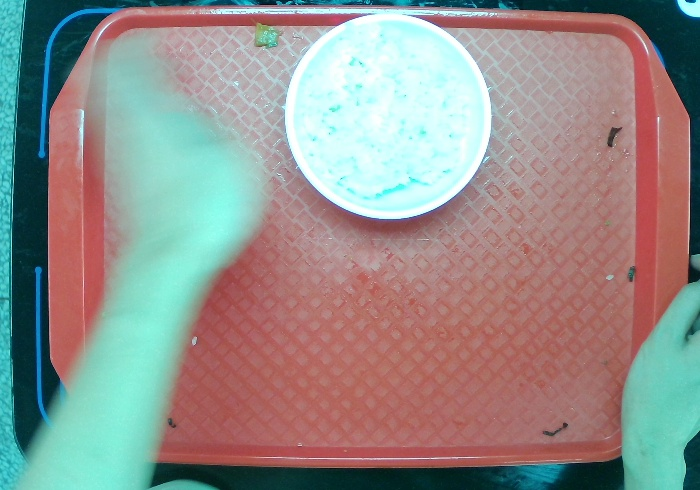YKMZ-Fan_Wan: (282, 9, 492, 222)
